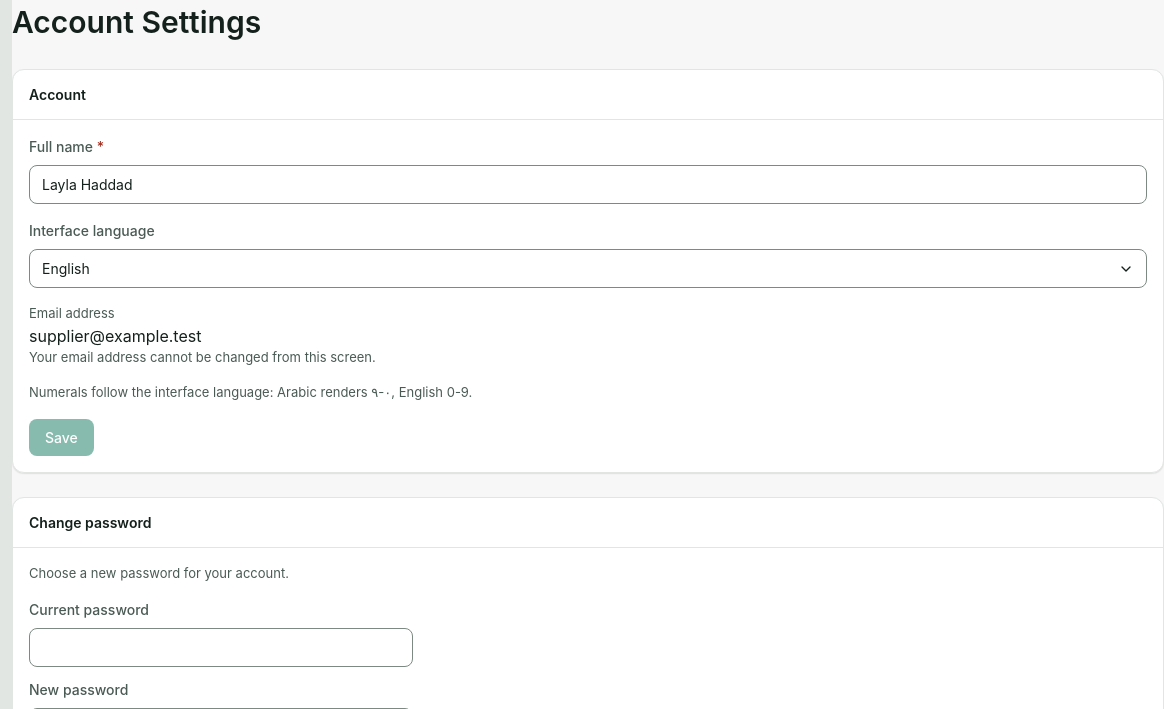
Test: SettingsPage session revoke flow › saves a new name and language, and the interface follows
Replace the text in the field labelled "Full name *" with "Layla H. Haddad" at [588, 184], box [29,165,1147,204]
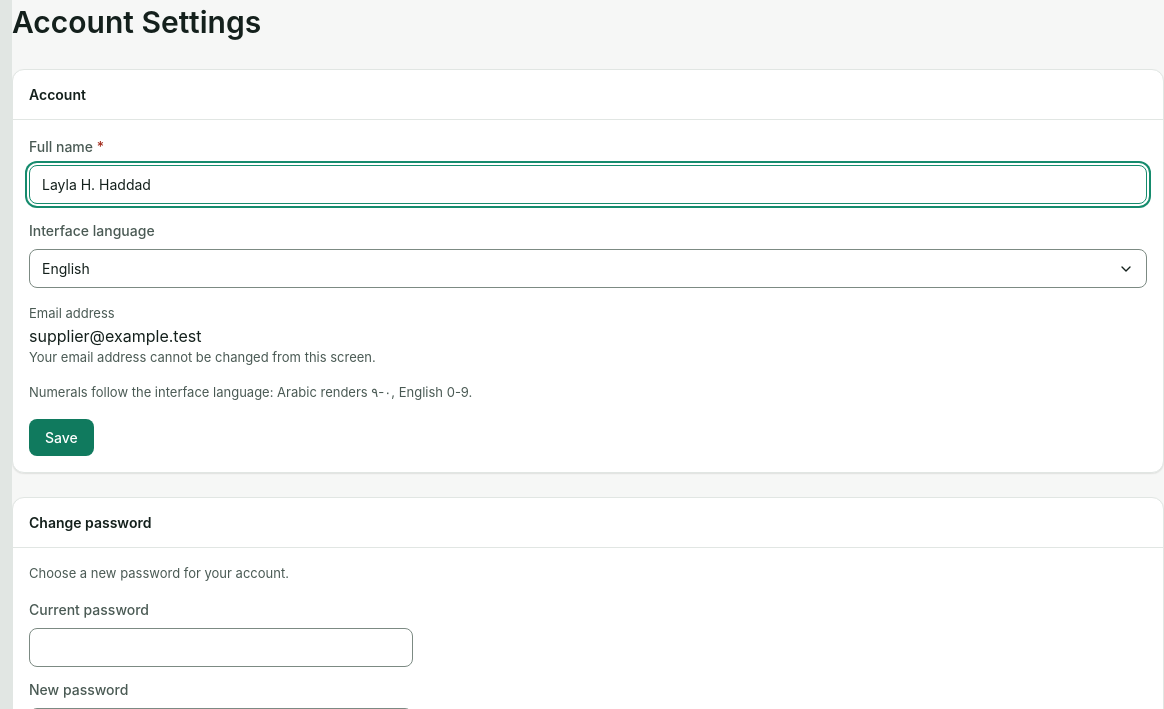
Click the button "Save".
click(61, 437)  # box [29,418,94,456]
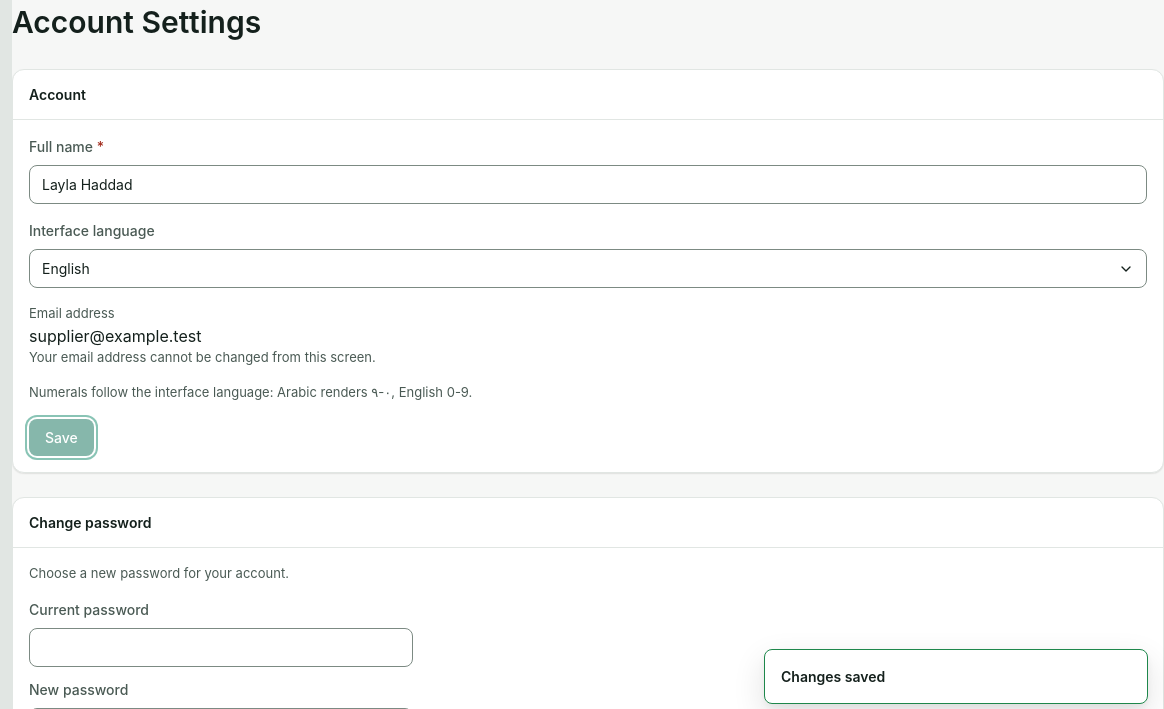
Result: the text "Changes saved" is shown at [781,668,885,685]
